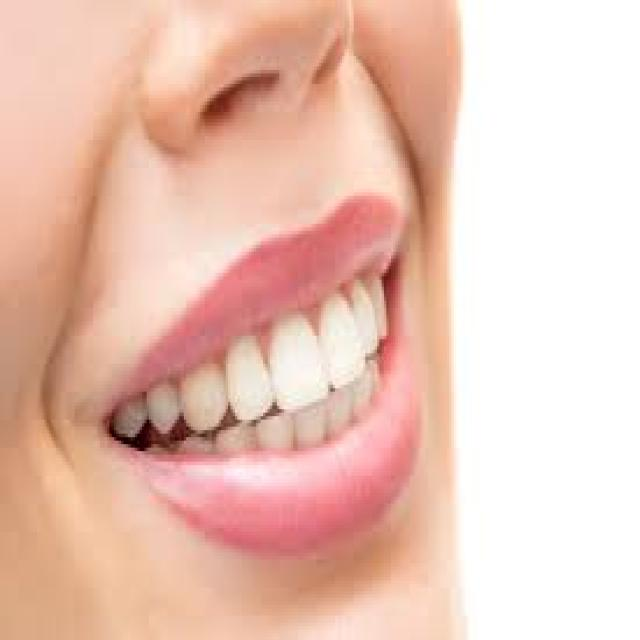tooth: (279, 322, 328, 402), (226, 336, 272, 412), (188, 371, 226, 430), (335, 318, 366, 388), (151, 381, 182, 437), (112, 406, 149, 430), (293, 412, 324, 440), (263, 420, 289, 451), (377, 283, 389, 350), (330, 399, 354, 430), (186, 437, 212, 458), (221, 434, 249, 451), (370, 314, 379, 350)
